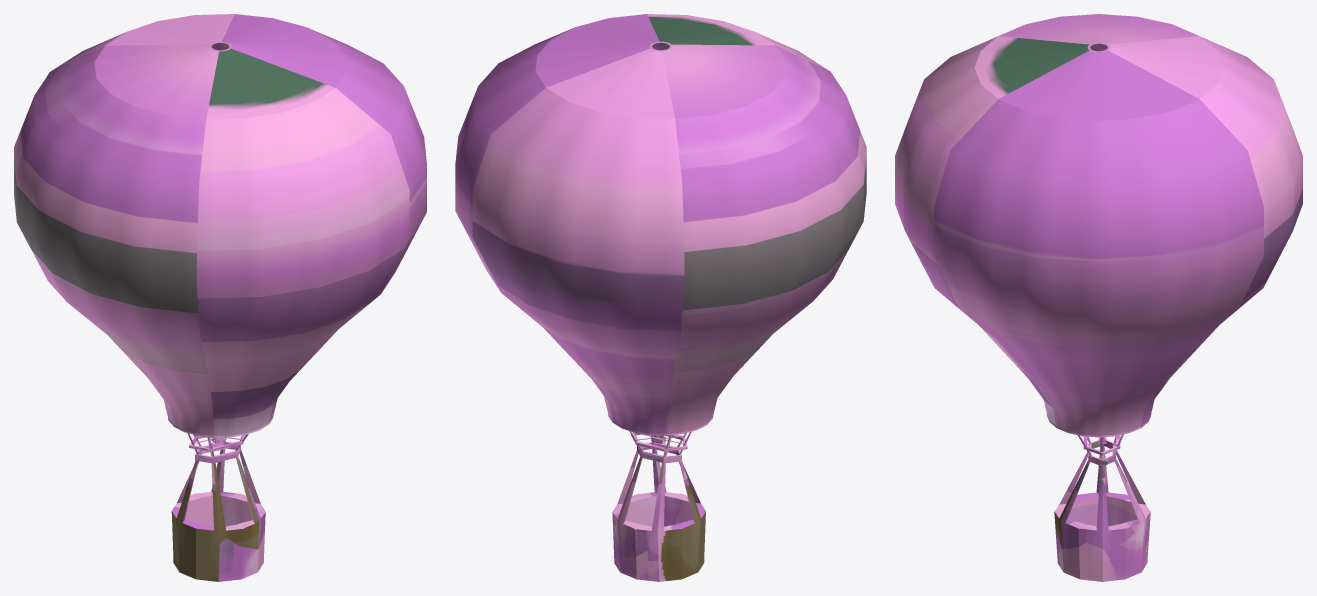
The model's file is baloon1.fbx.
3 renders of one model, left to right at view 1: azimuth 30°, elevation 25°; view 2: azimuth 150°, elevation 25°; view 3: azimuth 270°, elevation 25°, orthographic.
Visible parts, largest first — view 1: pCylinder1, pDisc1; view 2: pCylinder1, pDisc1; view 3: pCylinder1, pDisc1.
Boxes of the visible parts, <box> form: pCylinder1: <box>14,14,426,437</box>; pDisc1: <box>171,433,265,581</box>; pCylinder1: <box>455,14,866,435</box>; pDisc1: <box>612,431,705,581</box>; pCylinder1: <box>895,14,1302,437</box>; pDisc1: <box>1054,434,1150,581</box>.
Size of the model in its own units: 373 by 510 by 366.
